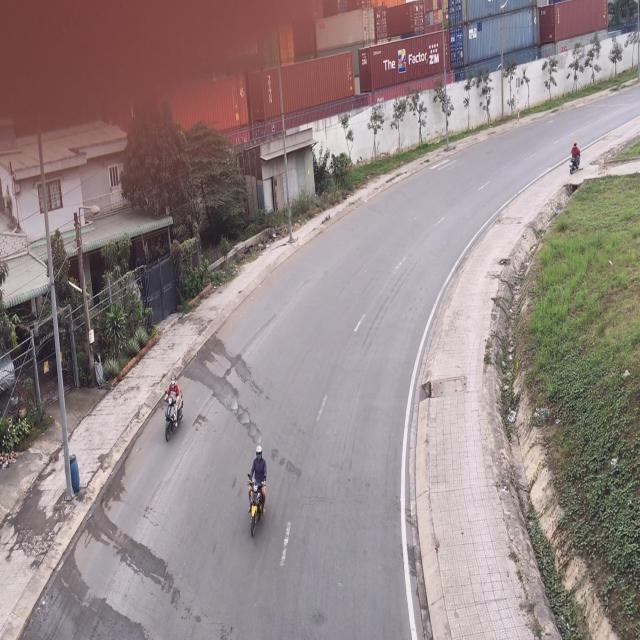motorbike: (248, 447, 270, 538), (162, 375, 184, 443), (568, 143, 582, 177)
